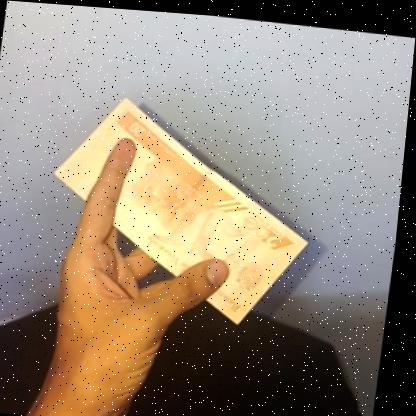twenty-back-vef: (42, 87, 328, 326)
